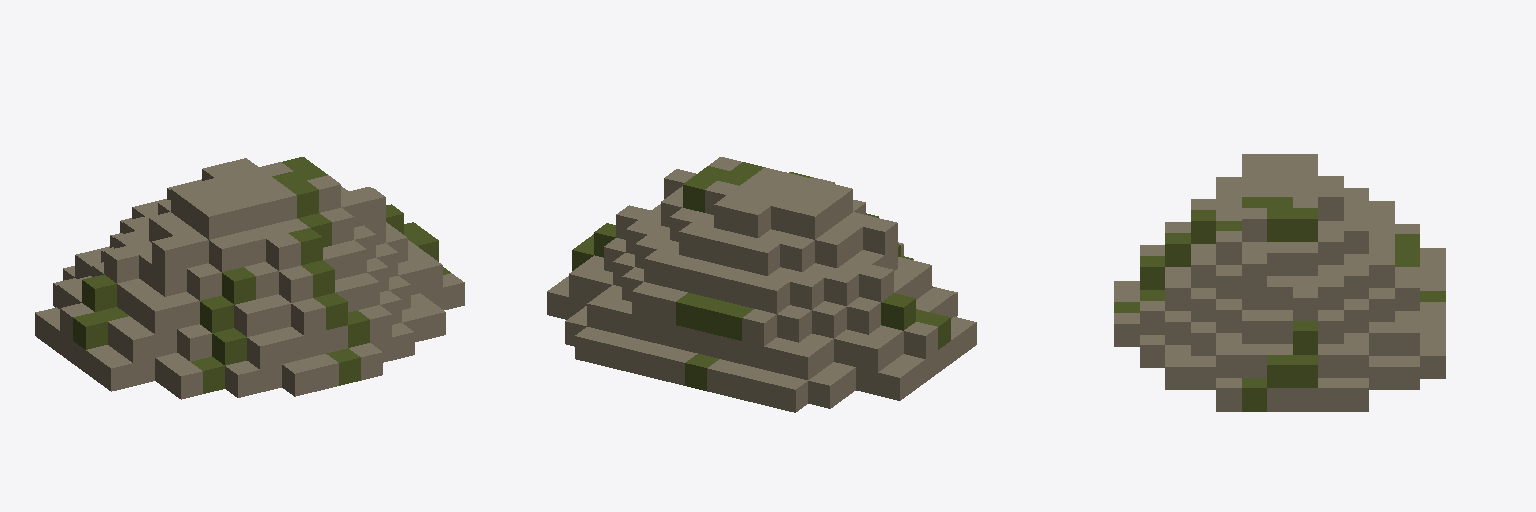
3 renders of one model, left to right at view 1: azimuth 30°, elevation 25°; view 2: azimuth 150°, elevation 25°; view 3: azimuth 270°, elevation 25°, orthographic.
Parts seen in each view (by area): view 1: object 1; view 2: object 1; view 3: object 1.
Boxes of the visible parts, x1,y1,x2,y2 form: object 1: [35, 157, 464, 399]; object 1: [547, 157, 976, 412]; object 1: [1114, 154, 1445, 411].
Size of the model in its own units: 1.6 by 0.6 by 1.3.
Materials: 1 (1 with a texture image).